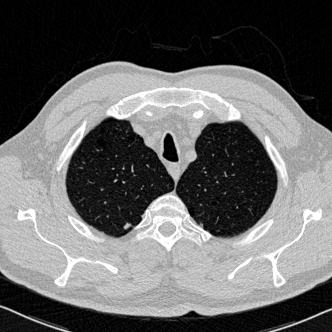nodule: (124, 223, 130, 229)
